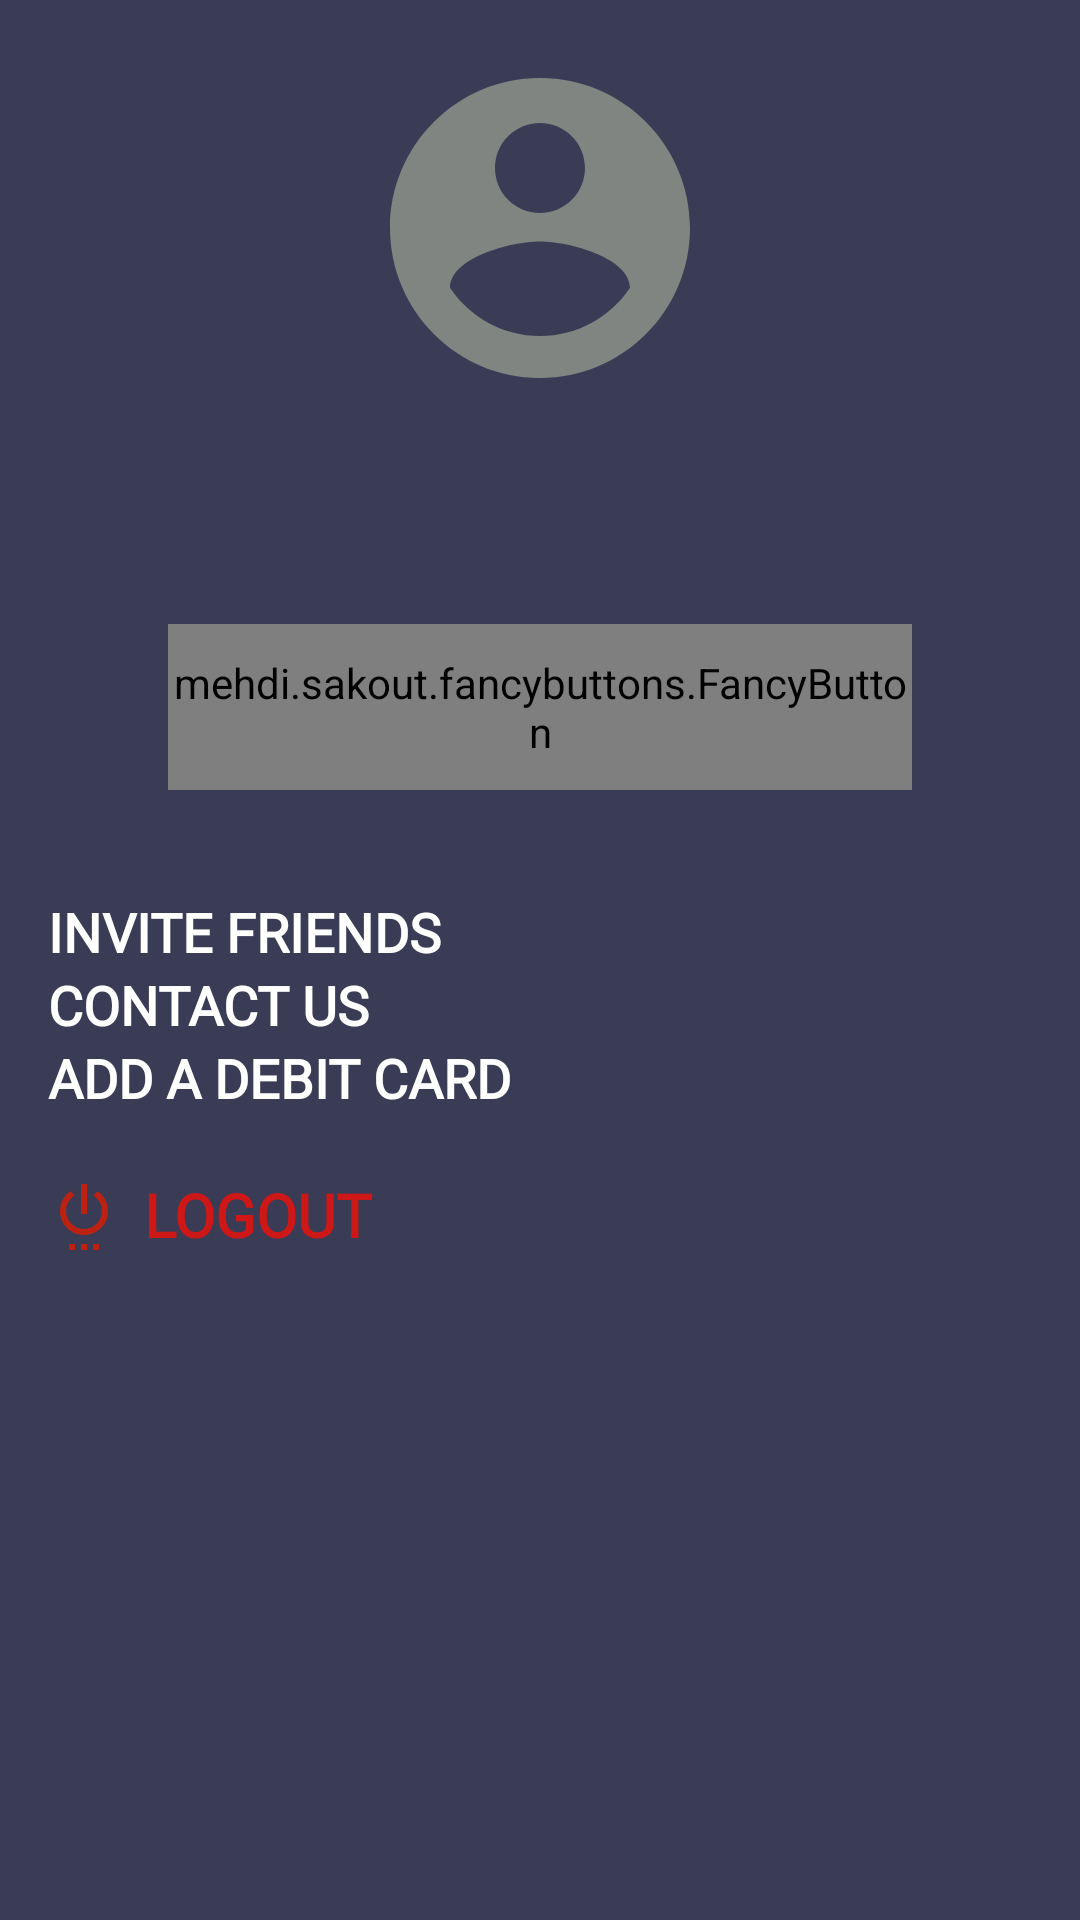

Screen size 1080px x 1920px. Icon name, then its box in pixels as {"left": x1, "top": y1, "right": x2, "bottom": y2}:
profile pics: {"left": 390, "top": 78, "right": 690, "bottom": 378}
